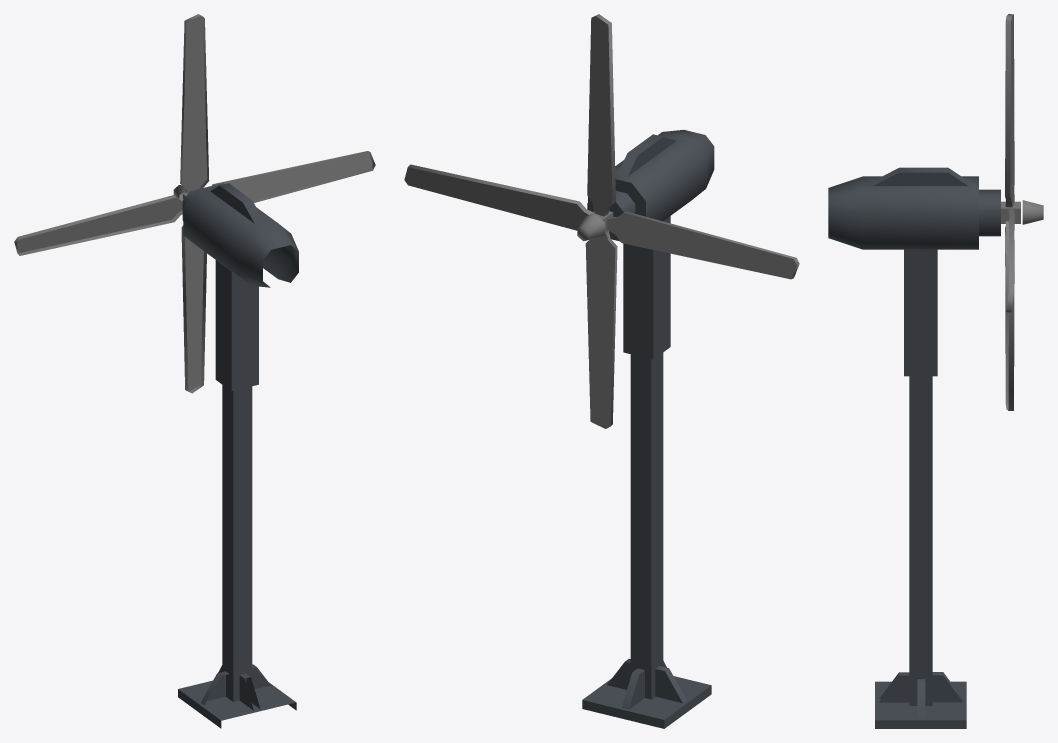
The model's file is wind_generator_01.fbx.
3 renders of one model, left to right at view 1: azimuth 30°, elevation 25°; view 2: azimuth 150°, elevation 25°; view 3: azimuth 270°, elevation 25°, orthographic. The views are drawn at different scales.
Visible parts, largest first — view 1: wind_generator_head, wind_generator_rotor, wind_generator_01.001; view 2: wind_generator_head, wind_generator_rotor, wind_generator_01.001; view 3: wind_generator_head, wind_generator_01.001, wind_generator_rotor.
Boxes of the visible parts, x1,y1,x2,y2 form: wind_generator_head: (178,260,296,728); wind_generator_rotor: (14,14,375,393); wind_generator_01.001: (182,183,298,287); wind_generator_head: (582,216,711,728); wind_generator_rotor: (404,14,799,428); wind_generator_01.001: (587,129,714,241); wind_generator_head: (875,249,966,728); wind_generator_01.001: (828,167,1000,249); wind_generator_rotor: (1001,14,1043,410).
Bounding box in the file's own units: 9.11 × 15.95 × 4.47.
